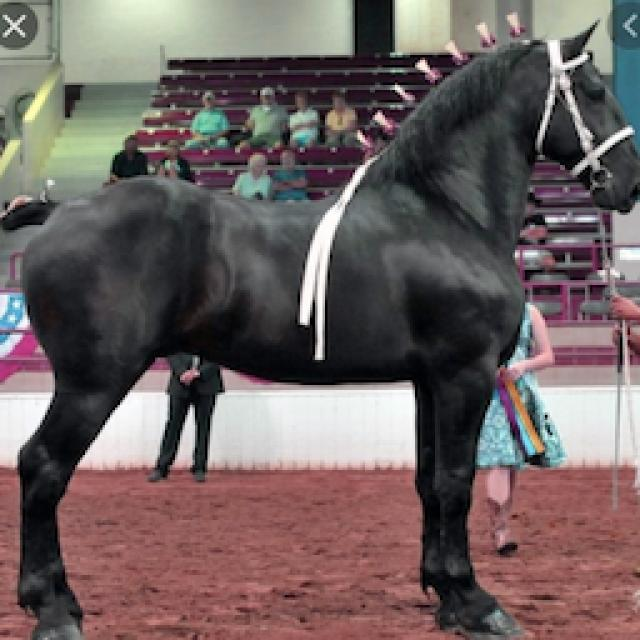Horse: (0, 15, 638, 638)
